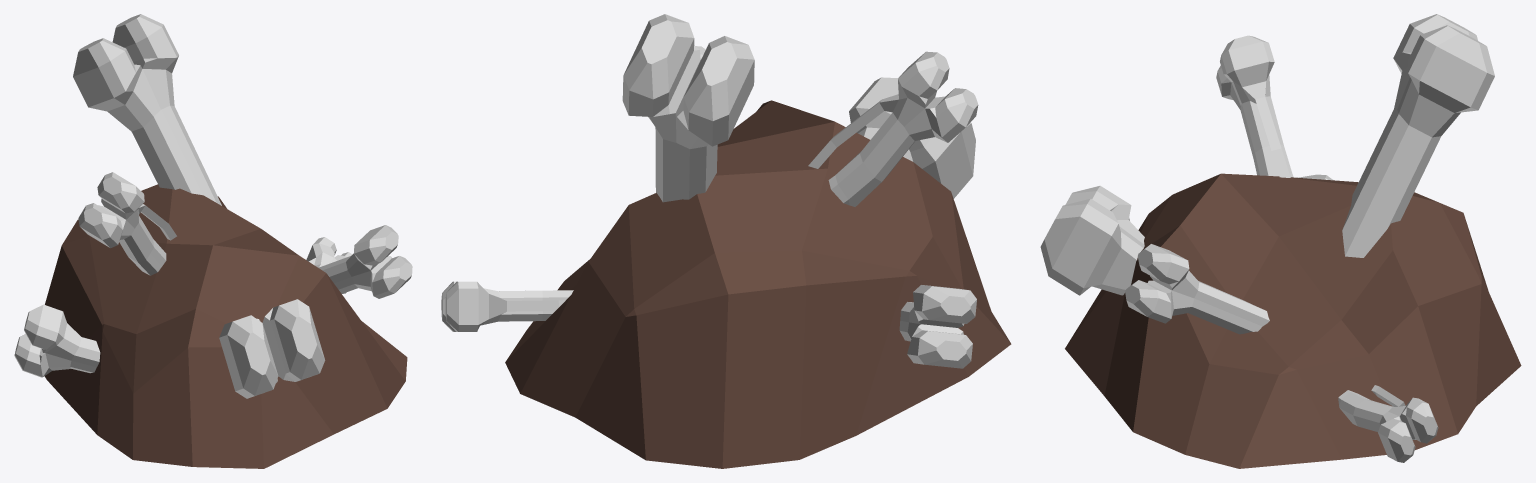
The model's file is ossa.fbx.
3 views of the same model, side by side, from view 1: azimuth 30°, elevation 25°; view 2: azimuth 150°, elevation 25°; view 3: azimuth 270°, elevation 25° (orthographic). The views are drawn at different scales.
Visible parts, largest first — view 1: Ossa; view 2: Ossa; view 3: Ossa.
Boxes of the visible parts, x1,y1,x2,y2 form: Ossa: (14,14,412,468); Ossa: (441,14,1011,468); Ossa: (1040,14,1521,468).
Size of the model in its own units: 100 by 80 by 100.
